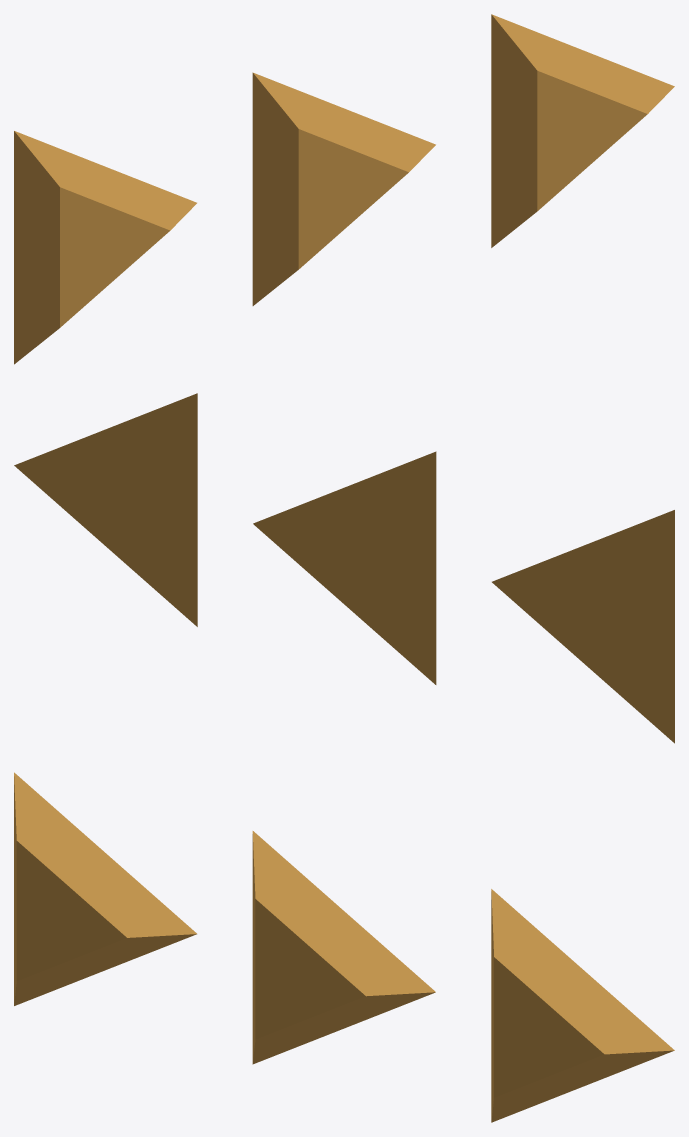
File: Details_Triangles.gltf
The picture shows the model from 3 angles, top to bottom: view 1: azimuth 30°, elevation 25°; view 2: azimuth 150°, elevation 25°; view 3: azimuth 330°, elevation 25°; orthographic projection.
Parts seen in each view (by area): view 1: Details_Triangles; view 2: Details_Triangles; view 3: Details_Triangles.
Part boxes in pixels (x1,y1,x2,y2): Details_Triangles: (14,14,674,364); Details_Triangles: (14,393,674,743); Details_Triangles: (14,772,674,1122).
Bounding box in the file's own units: 0.476 × 0.1611 × 0.0269.
